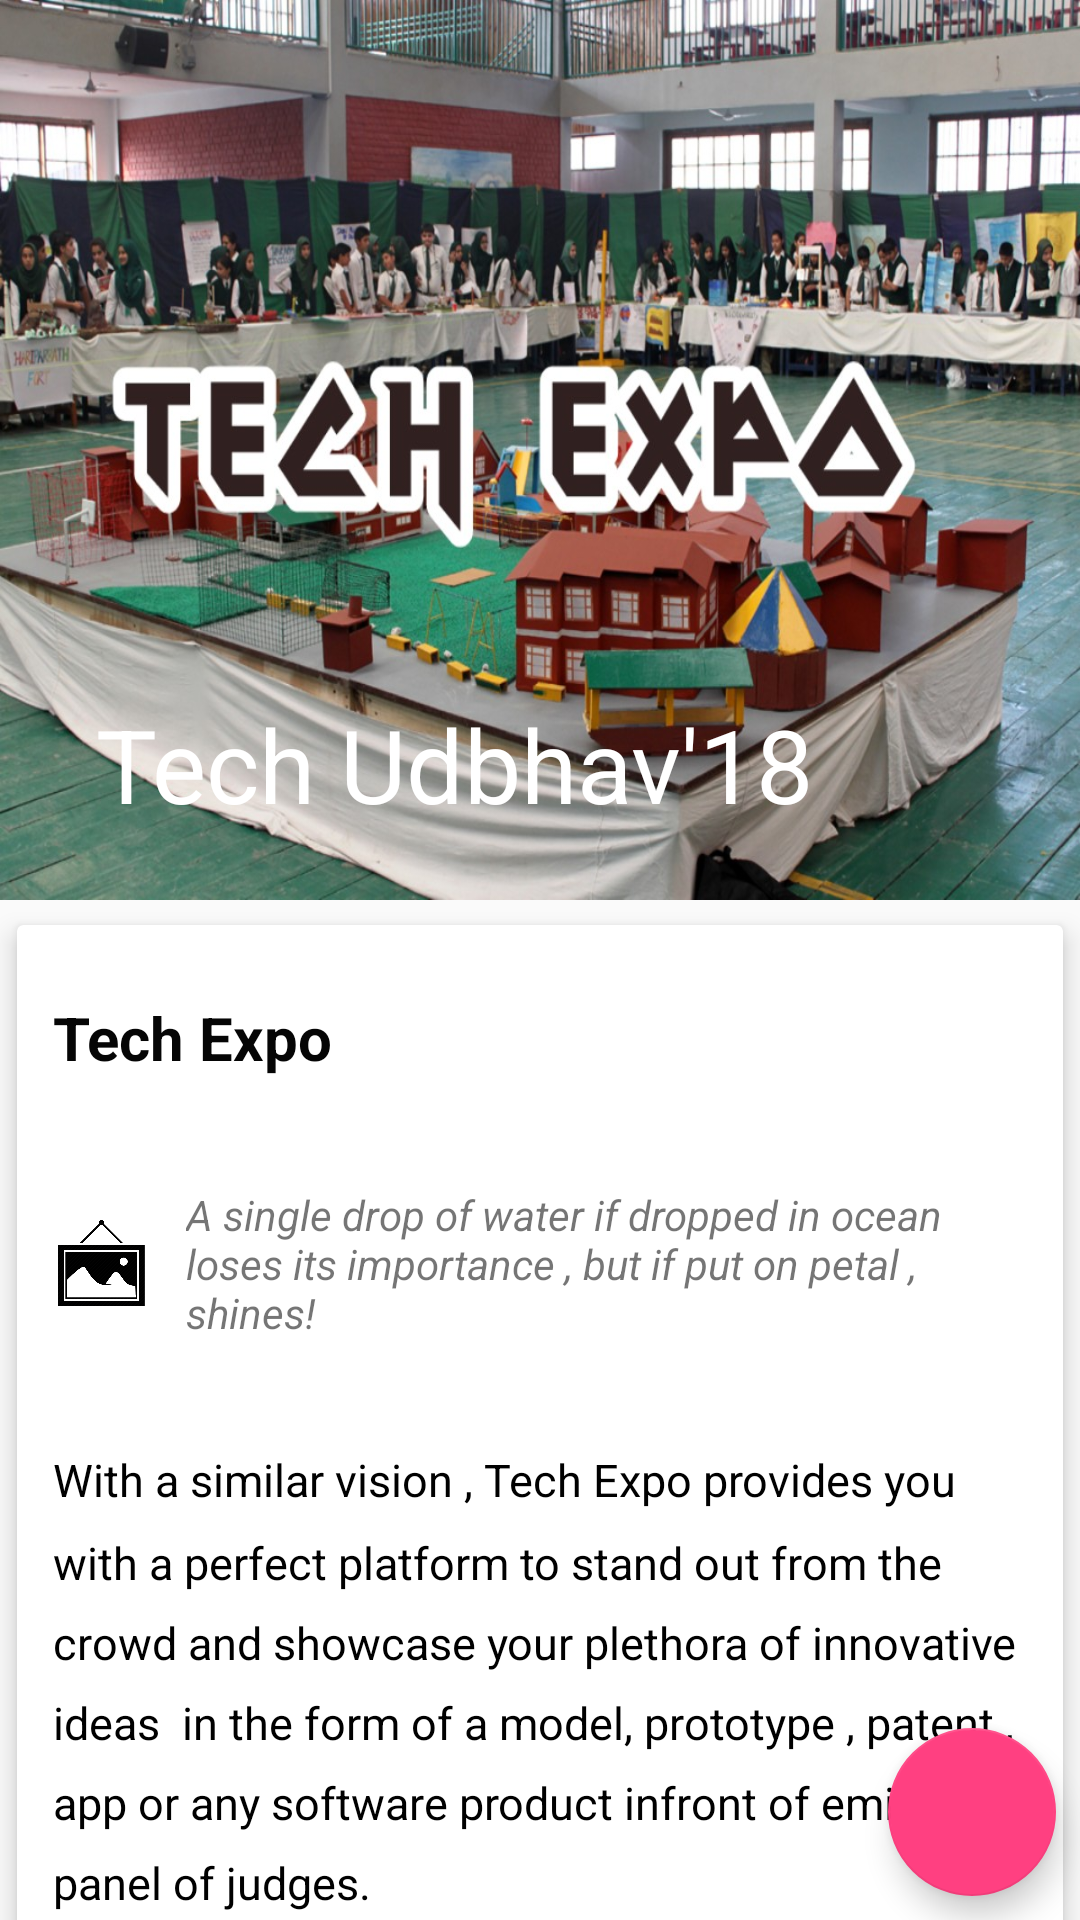

Icons on this 1080px x 1920px Android screen, each with its box as (x1, y1, x2, y2):
exhibition: (58, 1220, 145, 1306)
